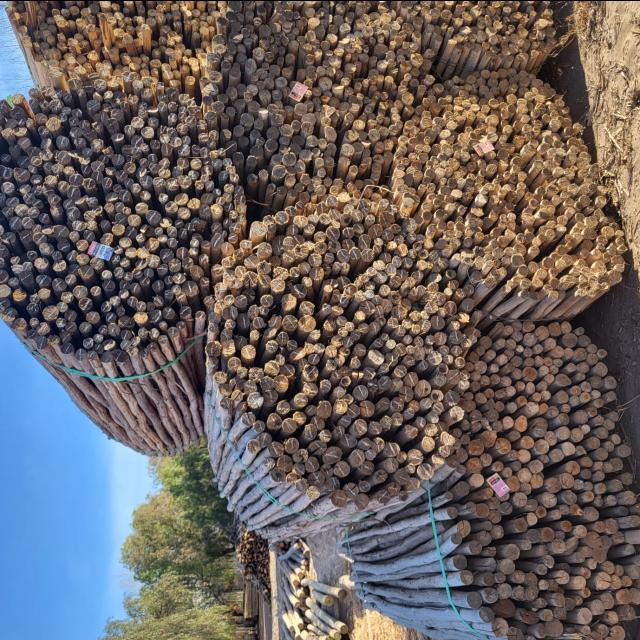package: (207, 200, 459, 507), (0, 77, 240, 364), (445, 318, 639, 640), (396, 67, 624, 296), (206, 0, 401, 197), (7, 0, 220, 83), (420, 1, 560, 66)
